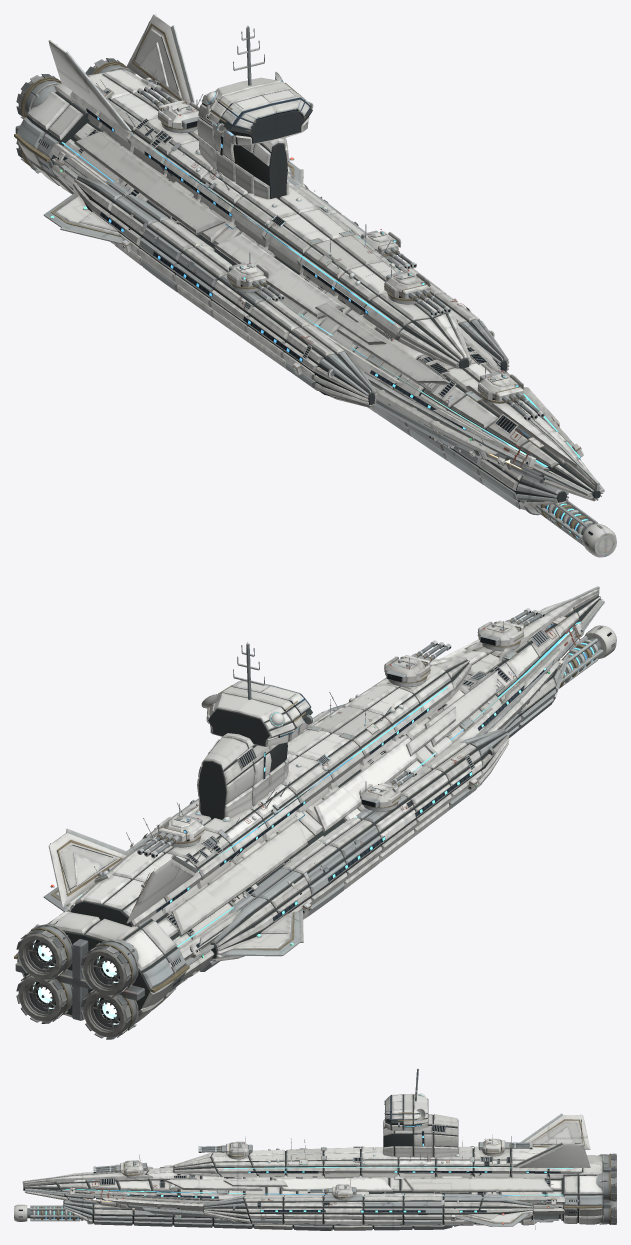
The model's file is warden_destroyer.glb.
3 views of the same model, one above another, from view 1: azimuth 30°, elevation 25°; view 2: azimuth 150°, elevation 25°; view 3: azimuth 270°, elevation 25° (orthographic). The views are drawn at different scales.
Parts seen in each view (by area): view 1: warden_destroyer_hull, warden_destroyer_glass; view 2: warden_destroyer_hull, warden_destroyer_plasma; view 3: warden_destroyer_hull, warden_destroyer_glass.
Boxes of the visible parts, bbox=[...] form: warden_destroyer_hull: bbox=[14, 14, 616, 557]; warden_destroyer_glass: bbox=[63, 97, 460, 426]; warden_destroyer_hull: bbox=[14, 586, 616, 1039]; warden_destroyer_plasma: bbox=[33, 940, 118, 1024]; warden_destroyer_hull: bbox=[14, 1068, 616, 1230]; warden_destroyer_glass: bbox=[132, 1095, 559, 1211].
Bounding box in the file's own units: 31.68 × 35.19 × 121.
Materials: 3 (1 with a texture image).
